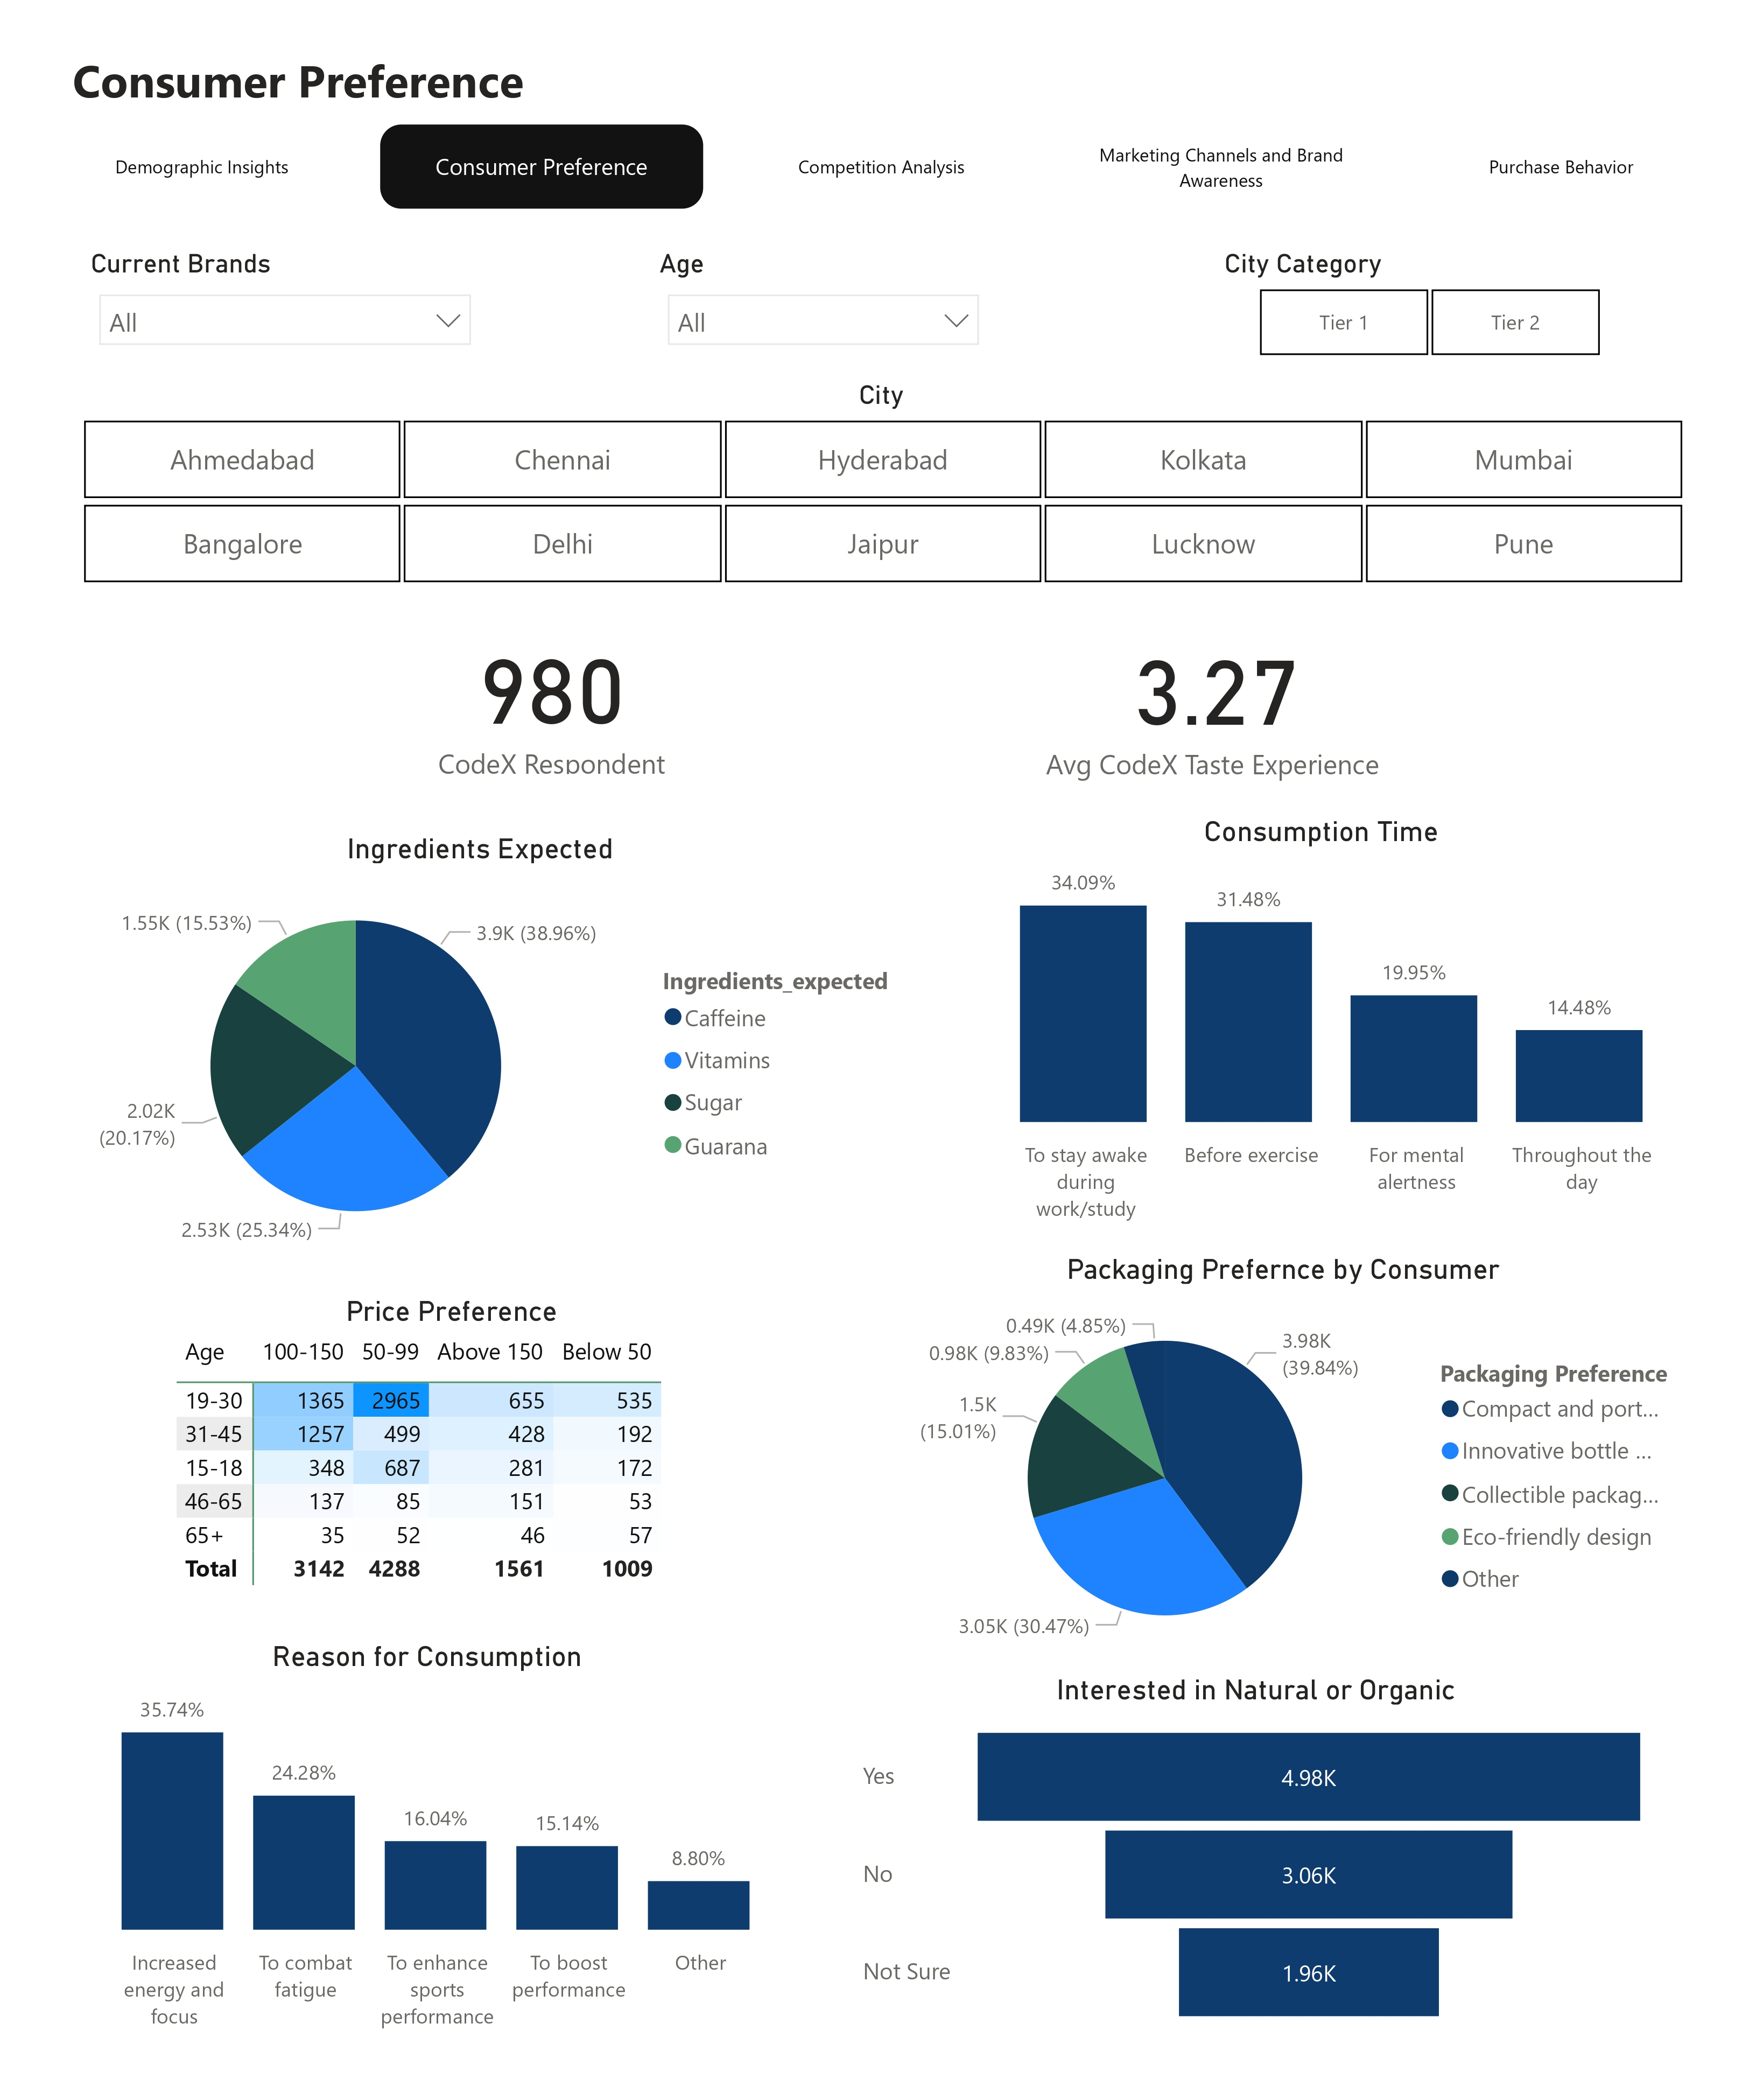

The dashboard page shown, as its layout file describes it:
{"tool":"powerbi","page":{"name":"Consumer Preference ","canvas":[1000,1200],"ordinal":1},"visuals":[{"type":"textbox","box":[10,0,293.8,75],"z":0},{"type":"slicer","title":"Current Brands ","fields":{"Values":["fact_survey_responses.Current_brands"]},"box":[25,122.5,241.2,71.2],"z":1000},{"type":"slicer","title":"City Category ","fields":{"Values":["dim_cities.Tier"]},"box":[698.8,122.5,252.5,71.2],"z":3000},{"type":"slicer","title":"Age ","fields":{"Values":["dim_repondents.Age"]},"box":[362.5,122.5,205,71.2],"z":4000},{"type":"slicer","title":"City","fields":{"Values":["dim_cities.City"]},"box":[0,201.2,1000,127.5],"z":5000},{"type":"card","fields":{"Values":["dim_cities.avg_codex_response"]},"box":[195,341.2,217.5,100],"z":6000},{"type":"card","fields":{"Values":["Dax_notes.Codex_taste_exp"]},"box":[588.8,337.5,220,107.5],"z":7000},{"type":"pageNavigator","box":[0,50,1000,50],"z":8000},{"type":"pieChart","title":"Ingredients Expected","fields":{"Category":["fact_survey_responses.Ingredients_expected"],"Y":["CountNonNull(dim_repondents.Respondent_ID)"]},"box":[0,470,522.5,260],"z":9000},{"type":"pieChart","title":"Packaging Prefernce by Consumer","fields":{"Category":["fact_survey_responses.Packaging_preference"],"Y":["Divide(CountNonNull(dim_repondents.Respondent_ID), ScopedEval(CountNonNull(dim_repondents.Respondent_ID), []))"]},"box":[500,720,477.5,250],"z":10000},{"type":"columnChart","title":"Reason for Consumption","fields":{"Category":["fact_survey_responses.Consume_reason"],"Y":["CountNonNull(dim_repondents.Respondent_ID)"]},"box":[0,950,460,240],"z":11000},{"type":"columnChart","title":"Consumption Time","fields":{"Category":["fact_survey_responses.Consume_time"],"Y":["CountNonNull(dim_repondents.Respondent_ID)"]},"box":[522.5,460,477.5,250],"z":12000},{"type":"funnel","title":"Interested in Natural or Organic","fields":{"Category":["fact_survey_responses.Interest_in_natural_or_organic"],"Y":["CountNonNull(dim_repondents.Respondent_ID)"]},"box":[483.8,970,477.5,220],"z":13000},{"type":"pivotTable","title":"Price Preference","fields":{"Rows":["dim_repondents.Age"],"Values":["CountNonNull(dim_repondents.Respondent_ID)"],"Columns":["fact_survey_responses.Price_range"]},"box":[76.2,745,336.2,181.2],"z":14000}]}

Visuals, with their boxes in screenshot pixels (x1, y1, x2, y2):
textbox: 57,40,551,166
"Current Brands " slicer: 82,247,488,366
"City Category " slicer: 1216,247,1641,366
"Age " slicer: 650,247,995,366
"City" slicer: 40,379,1723,593
card - dim_cities.avg_codex_response: 368,614,734,783
card - Dax_notes.Codex_taste_exp: 1031,608,1401,789
pageNavigator: 40,124,1723,209
"Ingredients Expected" pieChart: 40,831,919,1269
"Packaging Prefernce by Consumer" pieChart: 882,1252,1685,1672
"Reason for Consumption" columnChart: 40,1639,814,2043
"Consumption Time" columnChart: 919,814,1723,1235
"Interested in Natural or Organic" funnel: 854,1672,1657,2043
"Price Preference" pivotTable: 168,1294,734,1599
